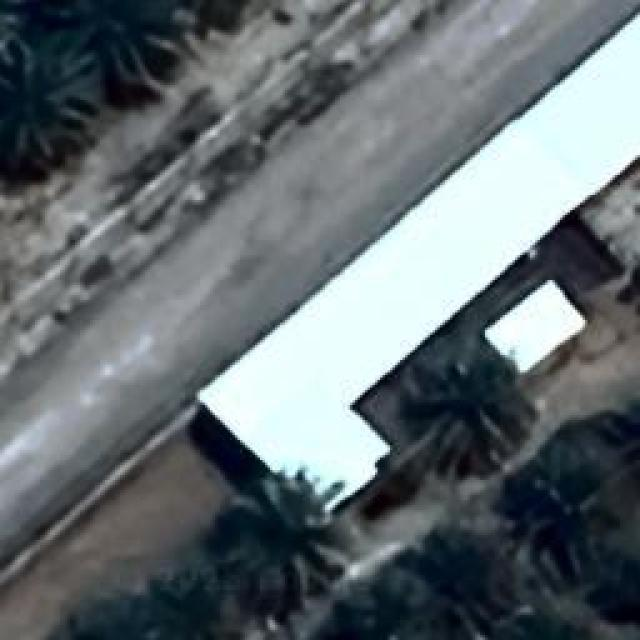PalmTree: (382, 347, 528, 475), (0, 30, 105, 160), (226, 479, 332, 589), (521, 472, 619, 582), (432, 531, 526, 614), (346, 567, 441, 640), (150, 572, 238, 640), (150, 573, 237, 640), (51, 601, 157, 640), (601, 534, 640, 624), (496, 612, 600, 640), (492, 617, 598, 640), (614, 394, 640, 487)
